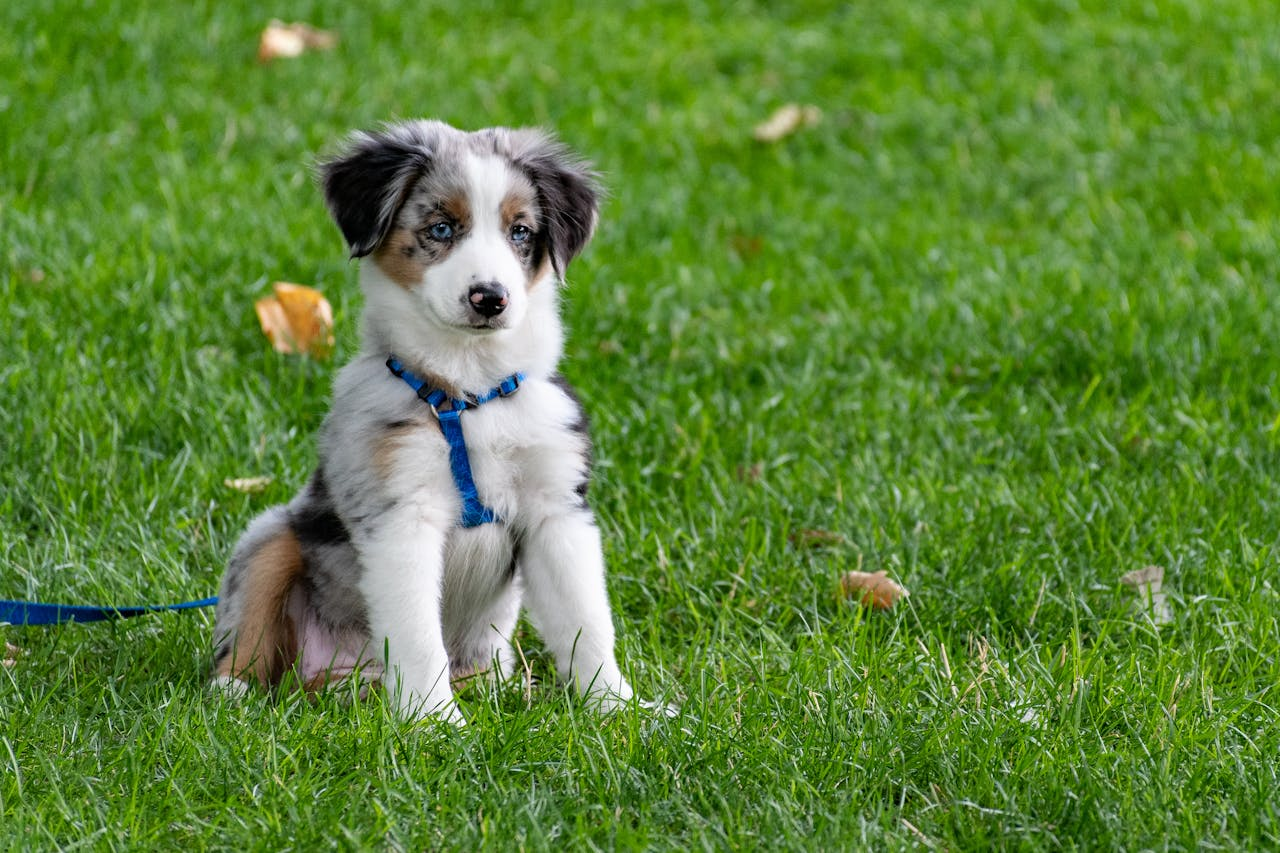dog: (202, 85, 681, 732)
